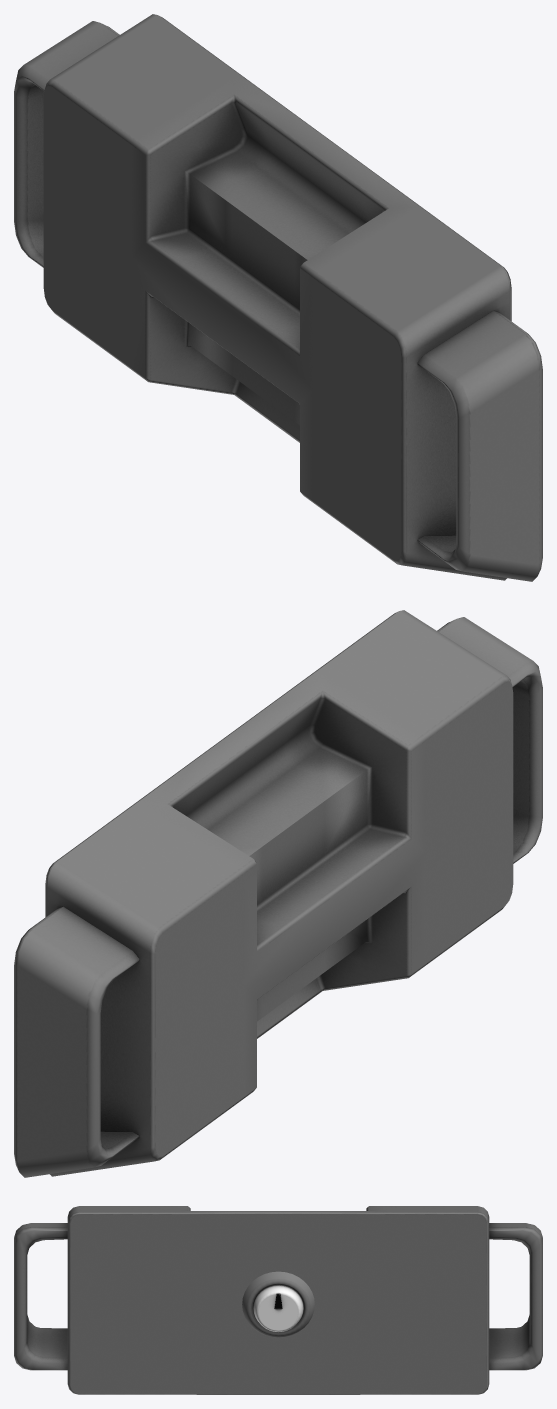
The model's file is CameraControls.fbx.
3 views of the same model, one above another, from view 1: azimuth 30°, elevation 25°; view 2: azimuth 150°, elevation 25°; view 3: azimuth 270°, elevation 25° (orthographic). The views are drawn at different scales.
Parts seen in each view (by area): view 1: CameraBoard; view 2: CameraBoard; view 3: CameraBoard, Knob.
Part boxes in pixels (left/top/right/bottom): CameraBoard: left=14, top=14, right=542, bottom=581; CameraBoard: left=14, top=610, right=542, bottom=1177; CameraBoard: left=14, top=1206, right=542, bottom=1394; Knob: left=242, top=1271, right=314, bottom=1337.
Bounding box in the file's own units: 30.89 × 64.08 × 168.
Materials: 1 (1 with a texture image).
